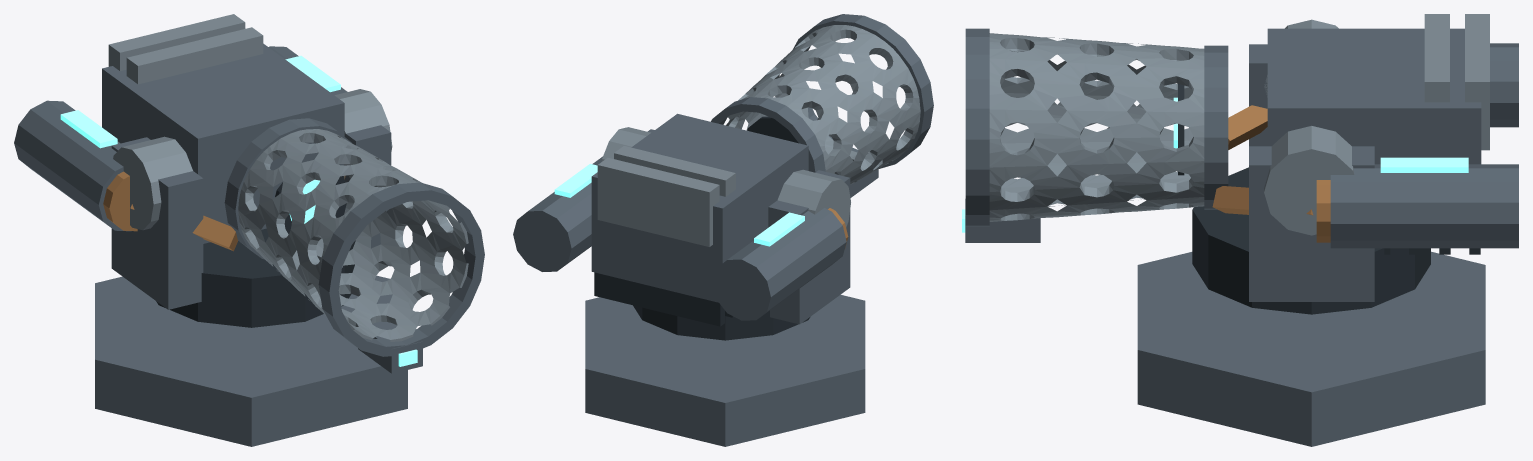
Rendered from plasma_t1_d0.glb.
3 renders of one model, left to right at view 1: azimuth 30°, elevation 25°; view 2: azimuth 150°, elevation 25°; view 3: azimuth 270°, elevation 25°, orthographic. The views are drawn at different scales.
Parts seen in each view (by area): view 1: RECOIL_ARMOR_GEOMETRY, BASE_ARMOR_GEOMETRY, YAW_ARMOR_GEOMETRY, RECOIL_SIGNAL_GEOMETRY; view 2: RECOIL_ARMOR_GEOMETRY, BASE_ARMOR_GEOMETRY, YAW_ARMOR_GEOMETRY, RECOIL_SIGNAL_GEOMETRY; view 3: RECOIL_ARMOR_GEOMETRY, BASE_ARMOR_GEOMETRY, YAW_ARMOR_GEOMETRY, RECOIL_SIGNAL_GEOMETRY.
Boxes of the visible parts, x1,y1,x2,y2 form: RECOIL_ARMOR_GEOMETRY: (14, 14, 484, 373); BASE_ARMOR_GEOMETRY: (95, 275, 407, 446); YAW_ARMOR_GEOMETRY: (111, 91, 391, 327); RECOIL_SIGNAL_GEOMETRY: (60, 55, 417, 366); RECOIL_ARMOR_GEOMETRY: (513, 14, 933, 326); BASE_ARMOR_GEOMETRY: (585, 294, 865, 446); YAW_ARMOR_GEOMETRY: (633, 129, 850, 340); RECOIL_SIGNAL_GEOMETRY: (554, 164, 804, 246); RECOIL_ARMOR_GEOMETRY: (965, 14, 1518, 254); BASE_ARMOR_GEOMETRY: (1137, 251, 1485, 446); YAW_ARMOR_GEOMETRY: (1192, 44, 1430, 314); RECOIL_SIGNAL_GEOMETRY: (962, 97, 1468, 232).
Bounding box in the file's own units: 1.6 × 1.43 × 2.22.
